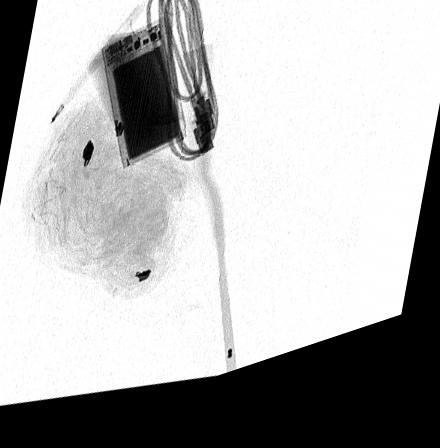Powerbank: (99, 24, 187, 177)
